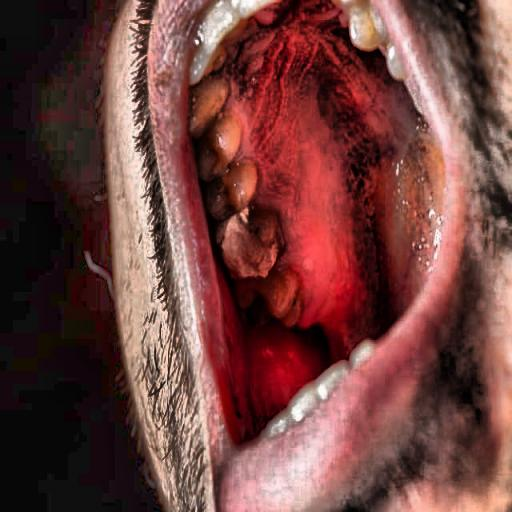Caries: (210, 199, 312, 316)
